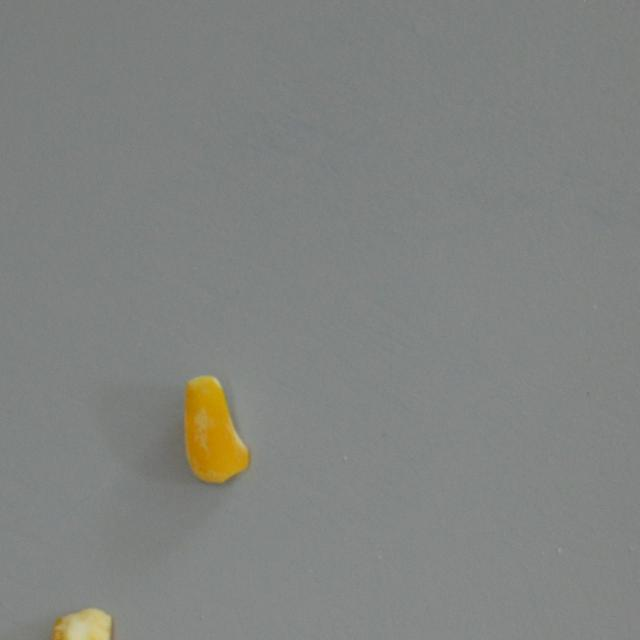pelicula: (178, 376, 254, 491), (44, 604, 114, 640)
